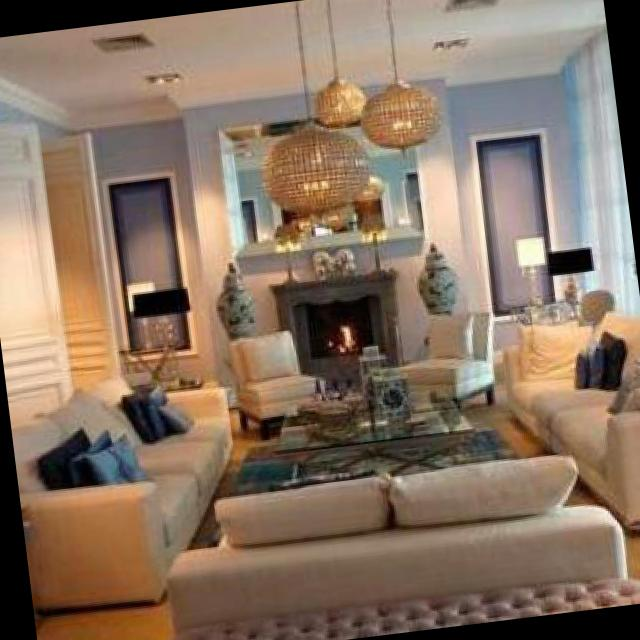Fire: (326, 313, 362, 359)
